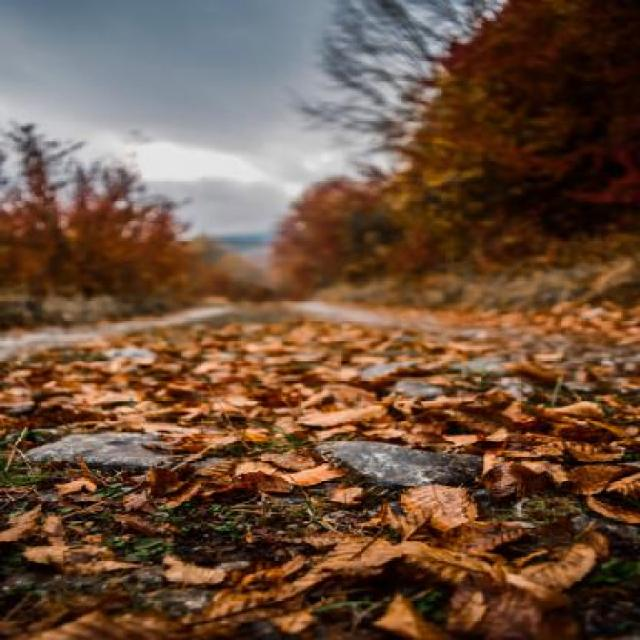organic waste: (162, 307, 392, 467), (37, 353, 132, 427), (478, 306, 620, 336)
